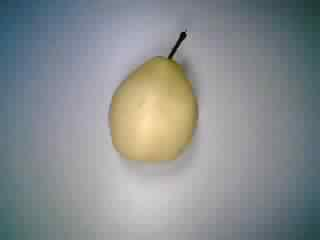pear: (98, 22, 208, 168)
